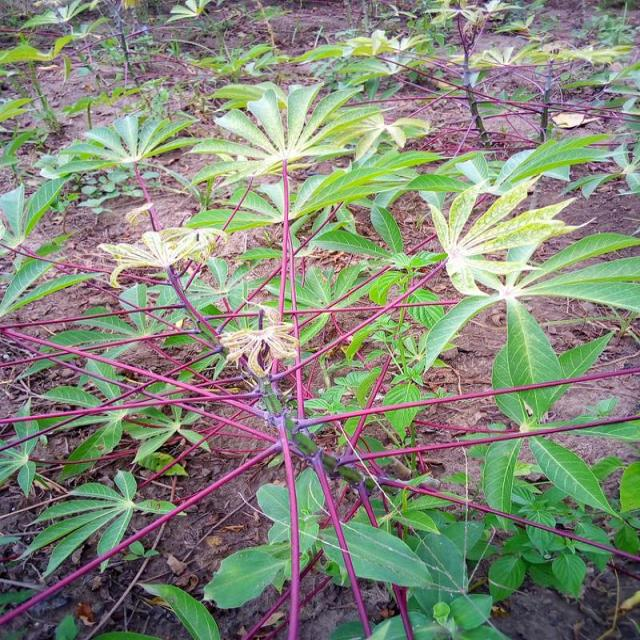Mosaico: (425, 166, 635, 347), (147, 48, 358, 180), (182, 319, 345, 396), (79, 216, 240, 292)
